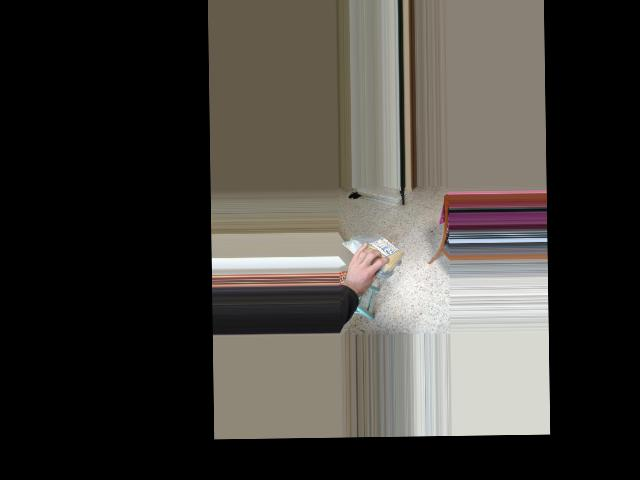cheese: (341, 236, 411, 266)
